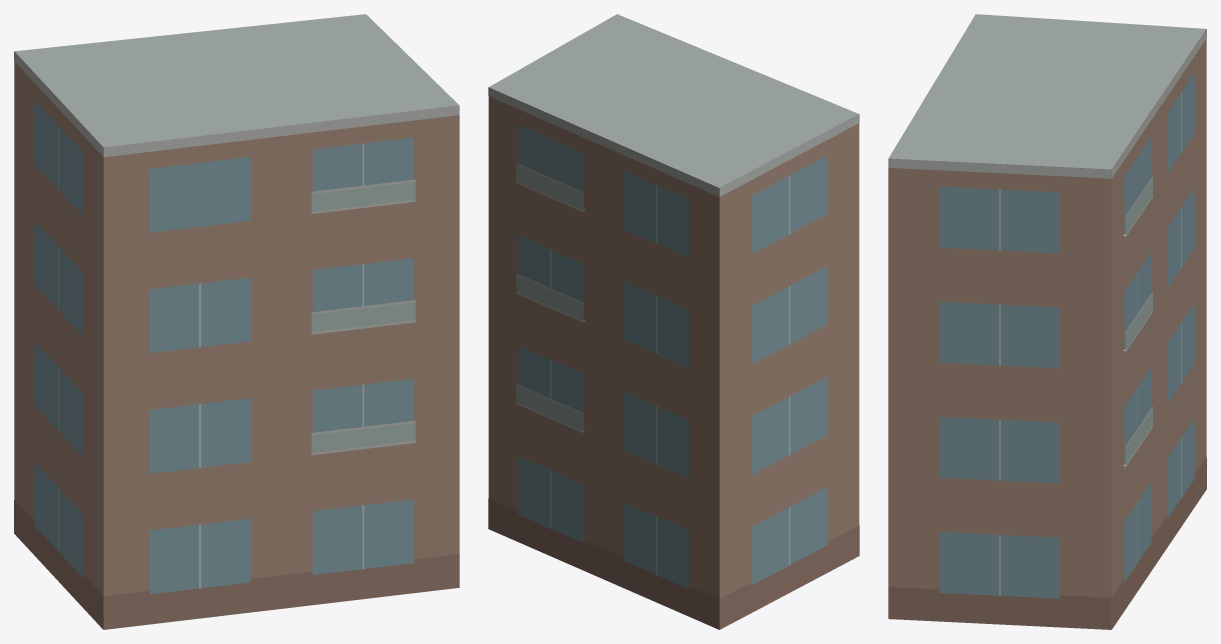
The model's file is survey-upis-32756274.glb.
The picture shows the model from 3 angles, left to right: view 1: azimuth 30°, elevation 25°; view 2: azimuth 150°, elevation 25°; view 3: azimuth 270°, elevation 25°; orthographic projection. The views are drawn at different scales.
Parts seen in each view (by area): view 1: survey-upis-32756274.tmp; view 2: survey-upis-32756274.tmp; view 3: survey-upis-32756274.tmp.
Boxes of the visible parts, x1=… form: survey-upis-32756274.tmp: x1=14, y1=14, x2=459, y2=629; survey-upis-32756274.tmp: x1=488, y1=14, x2=859, y2=629; survey-upis-32756274.tmp: x1=888, y1=14, x2=1206, y2=629.
Size of the model in its own units: 8.77 by 12.1 by 7.59.
